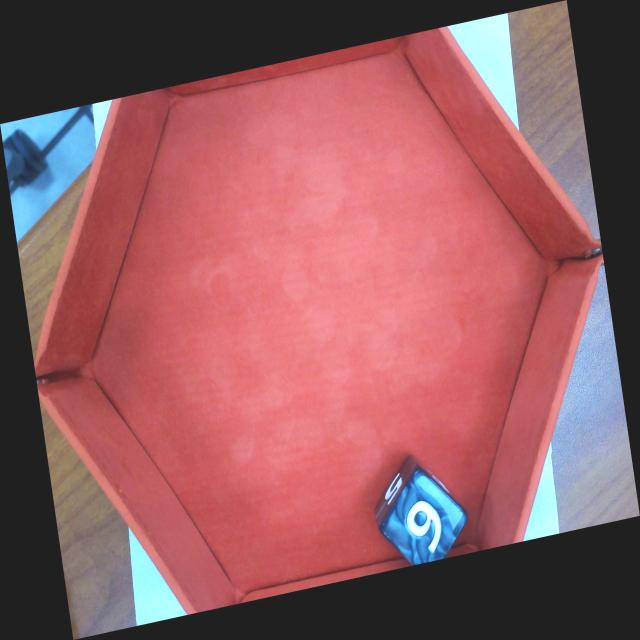dice: (375, 463, 472, 584)
